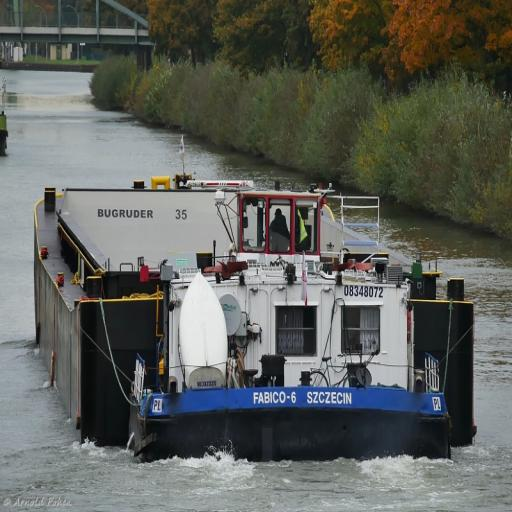tugboat: (124, 178, 458, 473)
